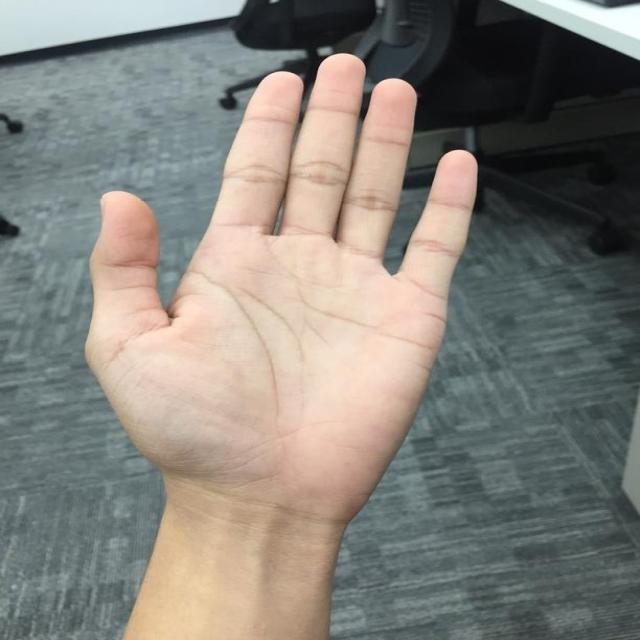hand: (88, 52, 479, 522)
